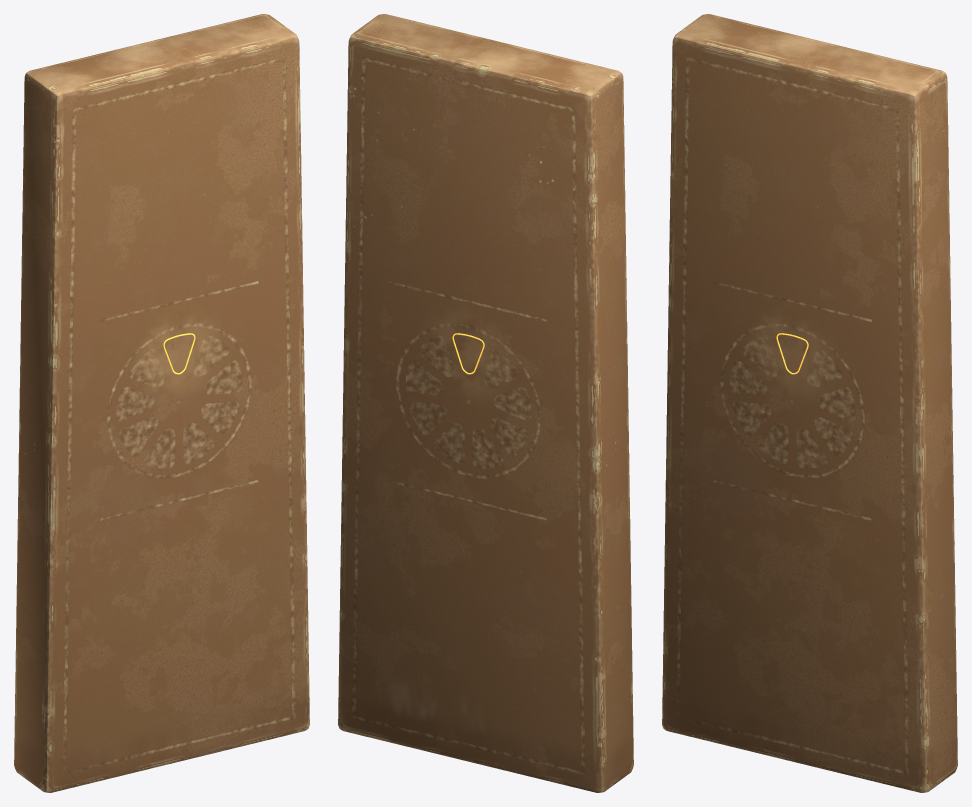
Rendered from door.glb.
3 views of the same model, side by side, from view 1: azimuth 30°, elevation 25°; view 2: azimuth 150°, elevation 25°; view 3: azimuth 330°, elevation 25° (orthographic).
Parts seen in each view (by area): view 1: door; view 2: door; view 3: door.
Part boxes in pixels (box(x1,y1,x2,y2)): door: box(14, 14, 309, 792); door: box(338, 14, 633, 792); door: box(662, 14, 957, 792).
Bounding box in the file's own units: 2 × 5 × 0.459.
Materials: 2 (1 with a texture image).
